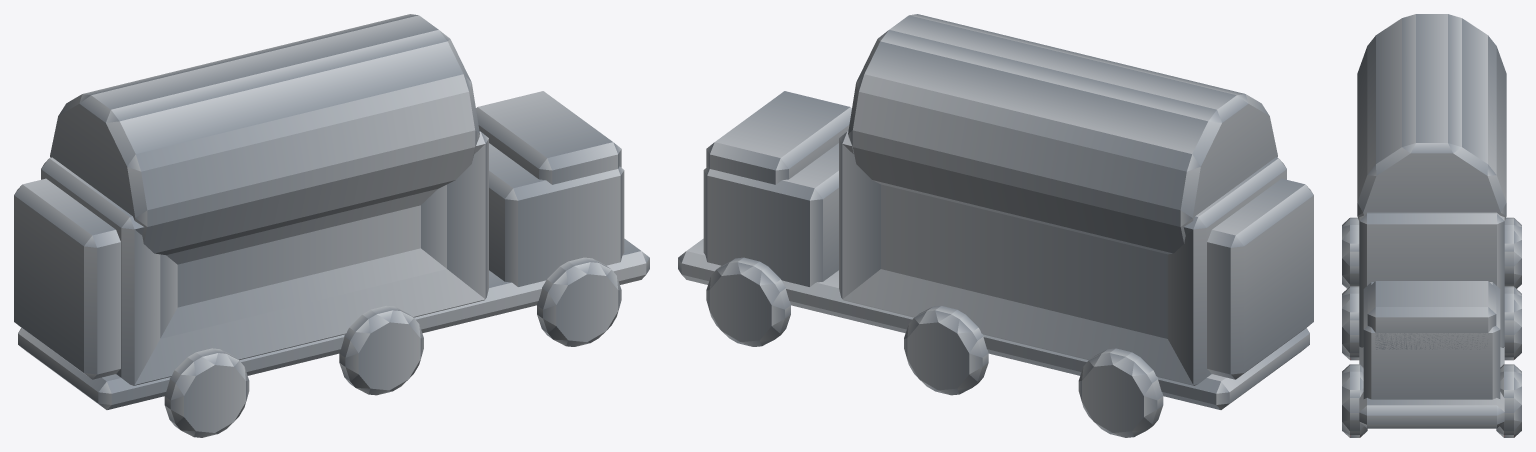
Rendered from dt_garbage_truck.fbx.
3 renders of one model, left to right at view 1: azimuth 30°, elevation 25°; view 2: azimuth 150°, elevation 25°; view 3: azimuth 270°, elevation 25°, orthographic. The views are drawn at different scales.
Parts seen in each view (by area): view 1: dt_garbage_truck; view 2: dt_garbage_truck; view 3: dt_garbage_truck.
Part boxes in pixels (left/top/right/bottom): dt_garbage_truck: left=14, top=14, right=649, bottom=437; dt_garbage_truck: left=678, top=14, right=1313, bottom=437; dt_garbage_truck: left=1342, top=14, right=1521, bottom=437.
Bounding box in the file's own units: 2000 × 1058 × 689.
